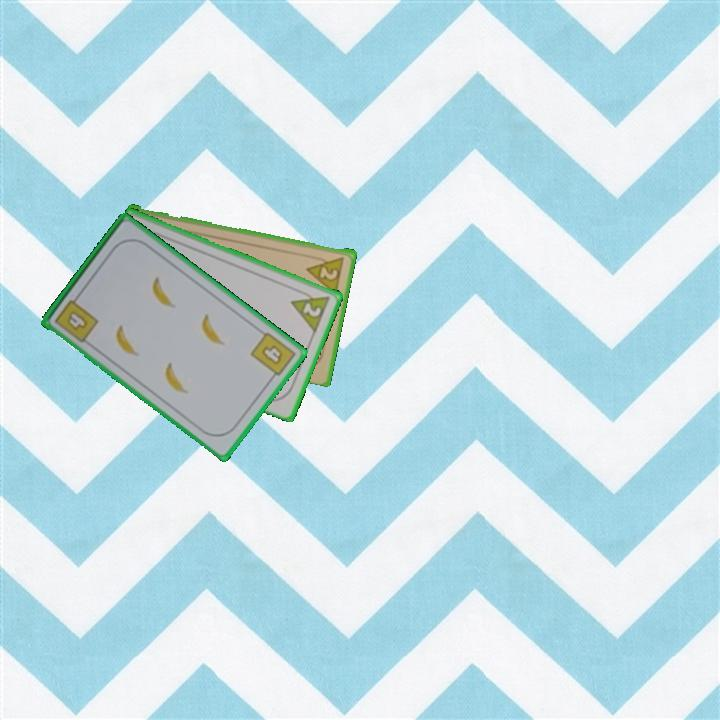2p: (287, 285, 333, 335), (303, 253, 347, 296)
4b: (247, 328, 299, 384), (51, 291, 102, 346)
